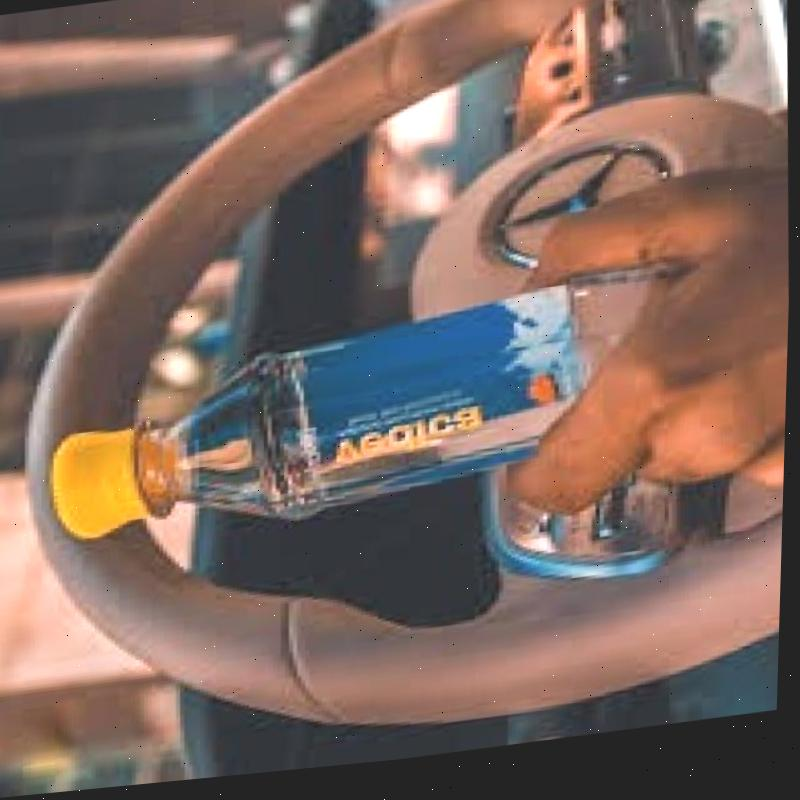botella: (51, 270, 683, 554)
